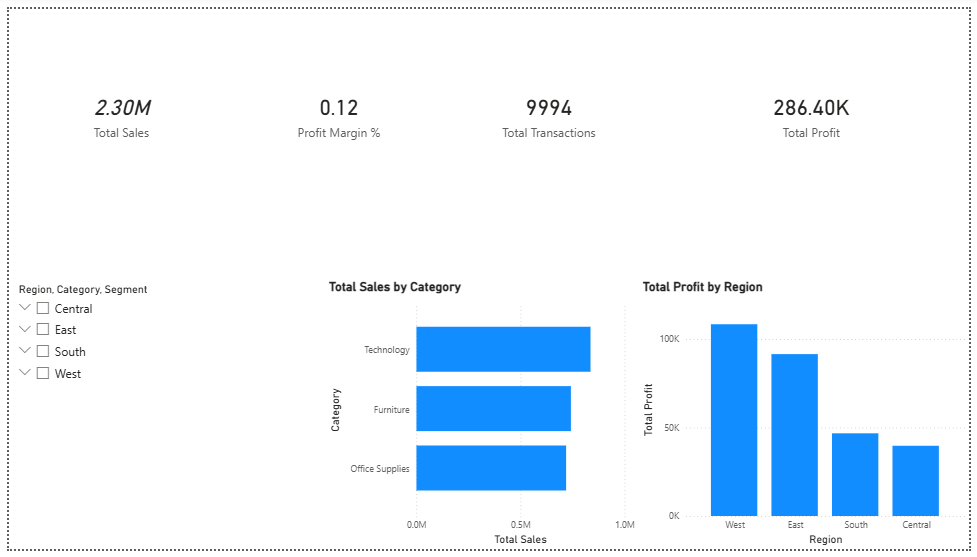

Layout of this report page (visuals, bound fields, positions):
{"tool":"powerbi","page":{"name":"Executive Overview","canvas":[1280,720],"ordinal":0},"visuals":[{"type":"card","fields":{"Values":["Measure.Total Transactions"]},"box":[580,0,280,280],"z":0},{"type":"card","fields":{"Values":["Measure.Total Sales"]},"box":[10,0,280,280],"z":1000},{"type":"card","fields":{"Values":["Measure.Total Profit"]},"box":[860,0,420,280],"z":2000},{"type":"card","fields":{"Values":["Measure.Profit Margin %"]},"box":[300,0,280,280],"z":3000},{"type":"clusteredBarChart","fields":{"Category":["SampleSuperstore.Category"],"Y":["Measure.Total Sales"]},"box":[421.7,360,418.3,360],"z":4000},{"type":"slicer","fields":{"Values":["SampleSuperstore.Region","SampleSuperstore.Category","SampleSuperstore.Segment"]},"box":[0,360,421.7,360],"z":5000},{"type":"clusteredColumnChart","fields":{"Y":["Measure.Total Profit"],"Category":["SampleSuperstore.Region"]},"box":[840,360,440,360],"z":6000}]}

Visuals, with their boxes in screenshot pixels (x1, y1, x2, y2), scaled from the page's 1280x720 canvas onto the 977x557 screenshot:
card - Measure.Total Transactions: Rect(443, 0, 656, 217)
card - Measure.Total Sales: Rect(8, 0, 221, 217)
card - Measure.Total Profit: Rect(656, 0, 976, 217)
card - Measure.Profit Margin %: Rect(229, 0, 443, 217)
clusteredBarChart - SampleSuperstore.Category x Measure.Total Sales: Rect(322, 278, 641, 556)
slicer - SampleSuperstore.Region x SampleSuperstore.Category: Rect(0, 278, 322, 556)
clusteredColumnChart - Measure.Total Profit x SampleSuperstore.Region: Rect(641, 278, 976, 556)
